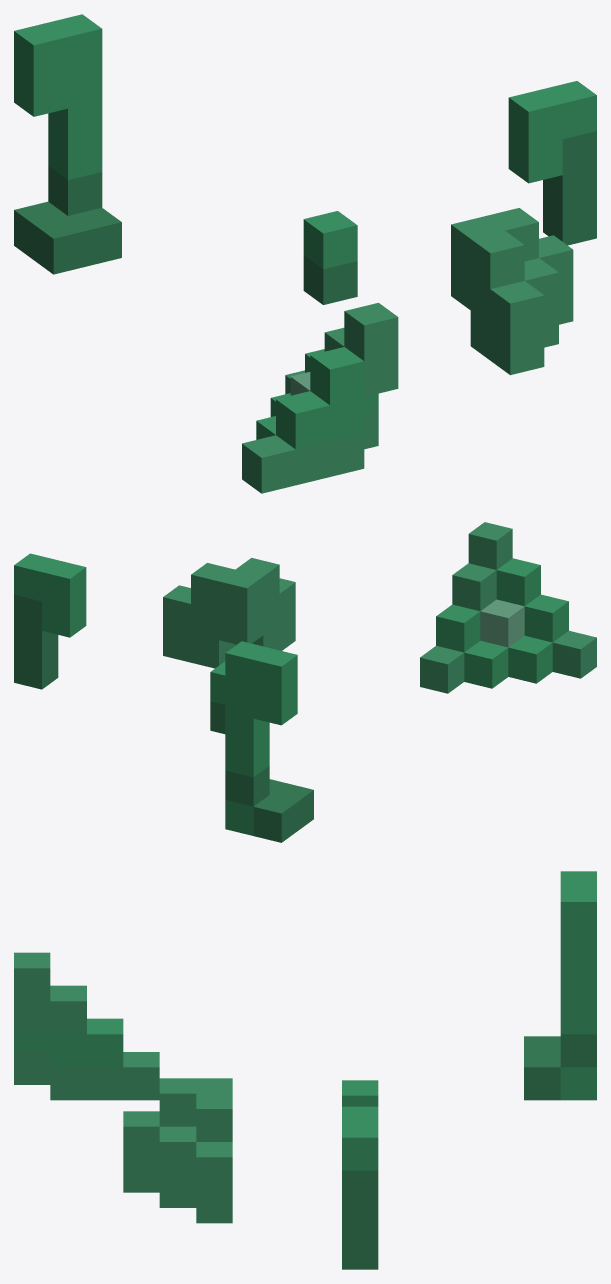
The model's file is grass_small.fbx.
3 renders of one model, top to bottom at view 1: azimuth 30°, elevation 25°; view 2: azimuth 150°, elevation 25°; view 3: azimuth 270°, elevation 25°, orthographic. The views are drawn at different scales.
Parts seen in each view (by area): view 1: leaves_1; view 2: leaves_1; view 3: leaves_1.
Boxes of the visible parts, bbox=[...] form: leaves_1: bbox=[14, 14, 596, 493]; leaves_1: bbox=[14, 522, 596, 842]; leaves_1: bbox=[14, 871, 596, 1269].
Size of the model in its own units: 15 by 6 by 16.
